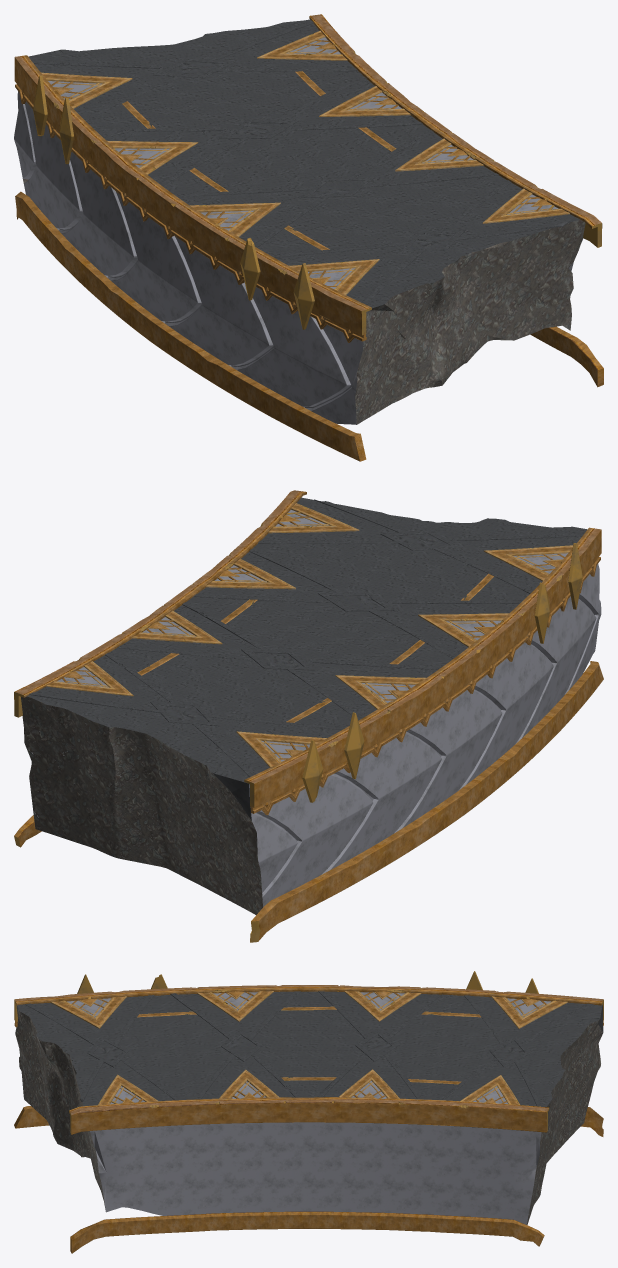
The picture shows the model from 3 angles, top to bottom: view 1: azimuth 30°, elevation 25°; view 2: azimuth 150°, elevation 25°; view 3: azimuth 270°, elevation 25°; orthographic projection. The views are drawn at different scales.
Visible parts, largest first — view 1: SM_Kuldras_Arena_Platform_01_LOD0; view 2: SM_Kuldras_Arena_Platform_01_LOD0; view 3: SM_Kuldras_Arena_Platform_01_LOD0.
Part boxes in pixels (box(x1,y1,x2,y2)): SM_Kuldras_Arena_Platform_01_LOD0: box(14, 14, 603, 461); SM_Kuldras_Arena_Platform_01_LOD0: box(14, 490, 603, 942); SM_Kuldras_Arena_Platform_01_LOD0: box(14, 971, 603, 1253).
Bounding box in the file's own units: 33.68 × 19.14 × 64.6.
7 materials, 7 textured.
